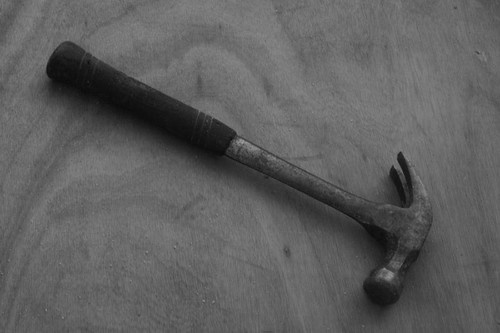hammer: (38, 35, 437, 303)
